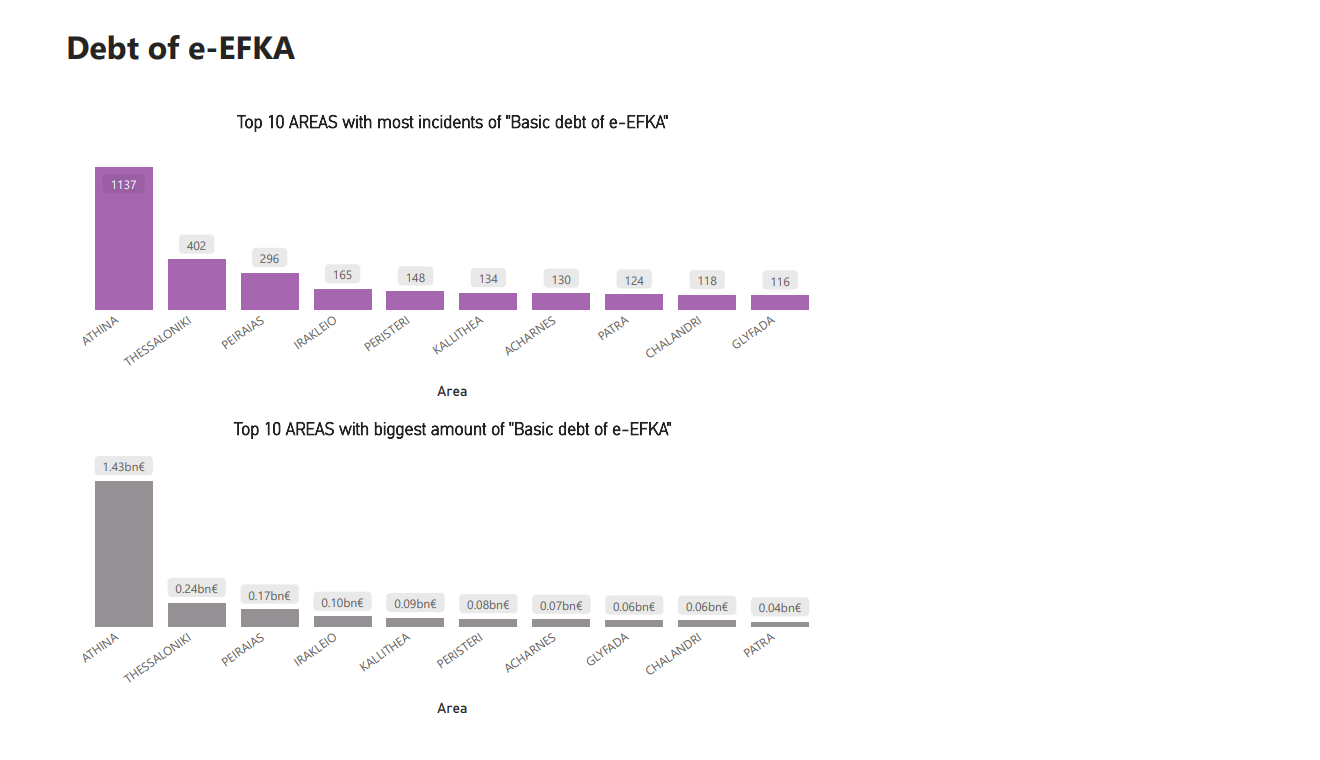

This screenshot's page, from the dashboard's own definition file:
{"tool":"powerbi","page":{"name":"Barcharts of top10 e-EFKA","canvas":[1280,720],"ordinal":5},"visuals":[{"type":"clusteredColumnChart","title":"Top 10 AREAS with most incidents of \"Basic debt of e-EFKA\"","fields":{"Category":["gr-public-debt.Area"],"Y":["Count(gr-public-debt.Basic debt e-EFKA.1)"]},"box":[39.8,92.3,783.4,292.5],"z":0},{"type":"clusteredColumnChart","title":"Top 10 AREAS with biggest amount of \"Basic debt of e-EFKA\"","fields":{"Category":["gr-public-debt.Area"],"Y":["Sum(gr-public-debt.Basic debt e-EFKA.1)"]},"box":[39.8,399.5,783.4,302.3],"z":1000},{"type":"textbox","box":[39.8,0,249.8,60.3],"z":2000}]}

Visuals, with their boxes in screenshot pixels (x1, y1, x2, y2), scaled from the page's 1280x720 canvas onto the 1320x760 screenshot:
"Top 10 AREAS with most incidents of "Basic debt of e-EFKA"" clusteredColumnChart: rect(41, 97, 849, 406)
"Top 10 AREAS with biggest amount of "Basic debt of e-EFKA"" clusteredColumnChart: rect(41, 422, 849, 741)
textbox: rect(41, 0, 299, 64)
